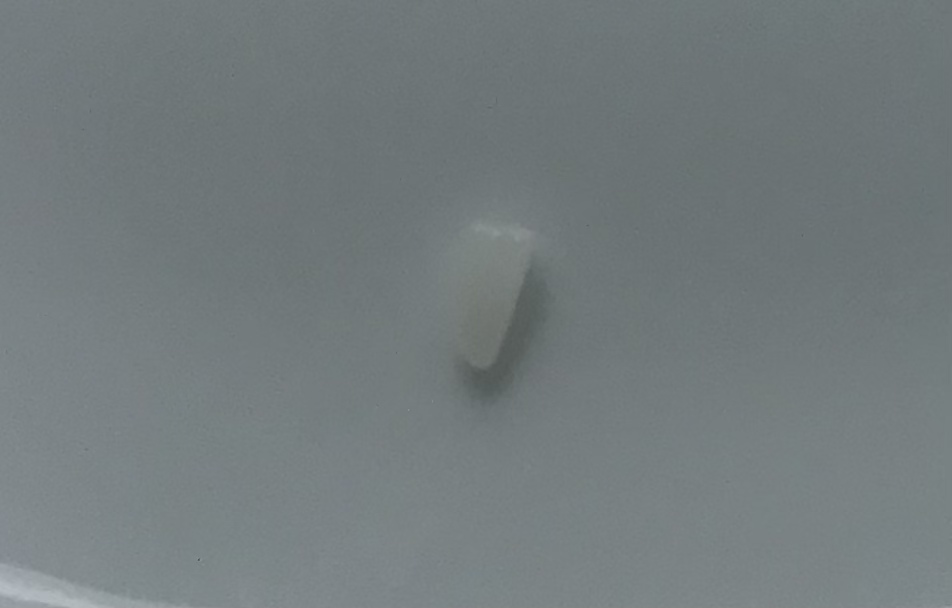Gao Tam: (444, 215, 529, 378)
